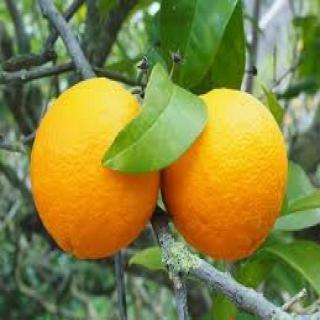orange: (23, 58, 161, 268), (156, 65, 292, 277)
